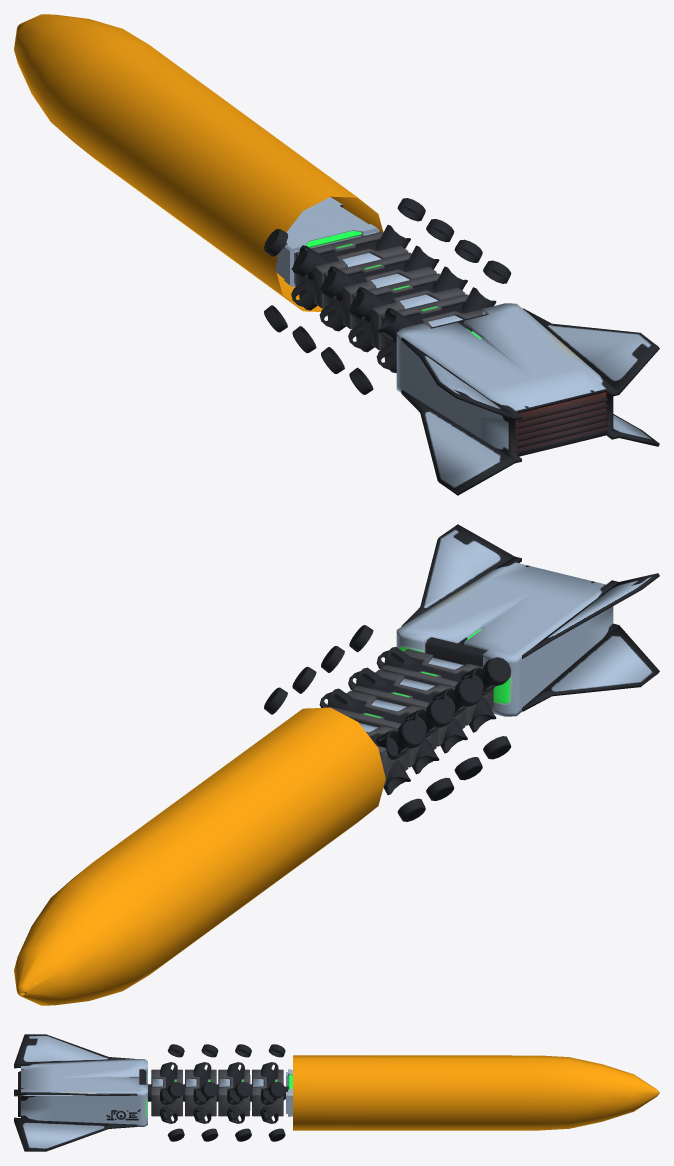
File: missile_11_body.fbx
3 renders of one model, top to bottom at view 1: azimuth 30°, elevation 25°; view 2: azimuth 150°, elevation 25°; view 3: azimuth 270°, elevation 25°, orthographic. The views are drawn at different scales.
Parts seen in each view (by area): view 1: Outer Casing_Low, RearBody_Low, Ion-Thrusters_Low, Anti Matter Tubes Shell_Low, Helix BlockOuter_Low, Grill_Low, Main Computer_Low, Helix BlockInner_Low; view 2: Outer Casing_Low, RearBody_Low, Anti Matter Tubes Shell_Low, Ion-Thrusters_Low, Helix BlockOuter_Low, Helix BlockInner_Low, ConnectionGroves_Low; view 3: Outer Casing_Low, RearBody_Low, Anti Matter Tubes Shell_Low, Ion-Thrusters_Low, Helix BlockOuter_Low, Helix BlockInner_Low, Main Computer_Low.
Boxes of the visible parts, box(x1,y1,x2,y2) form: Outer Casing_Low: box(14, 14, 383, 311); RearBody_Low: box(396, 303, 619, 463); Ion-Thrusters_Low: box(401, 308, 659, 495); Anti Matter Tubes Shell_Low: box(264, 198, 511, 394); Helix BlockOuter_Low: box(295, 231, 482, 350); Grill_Low: box(515, 393, 608, 454); Main Computer_Low: box(275, 197, 379, 286); Helix BlockInner_Low: box(319, 239, 465, 326); Outer Casing_Low: box(14, 707, 385, 1005); RearBody_Low: box(396, 556, 618, 716); Anti Matter Tubes Shell_Low: box(264, 625, 511, 821); Ion-Thrusters_Low: box(401, 524, 659, 711); Helix BlockOuter_Low: box(327, 649, 493, 786); Helix BlockInner_Low: box(341, 657, 466, 745); ConnectionGroves_Low: box(425, 629, 487, 666); Outer Casing_Low: box(293, 1055, 659, 1130); RearBody_Low: box(14, 1059, 147, 1126); Anti Matter Tubes Shell_Low: box(160, 1044, 285, 1141); Ion-Thrusters_Low: box(14, 1034, 137, 1151); Helix BlockOuter_Low: box(151, 1069, 283, 1116); Helix BlockInner_Low: box(152, 1072, 277, 1091); Main Computer_Low: box(286, 1069, 292, 1116).
Bounding box in the file's own units: 332 × 179 × 1538.
